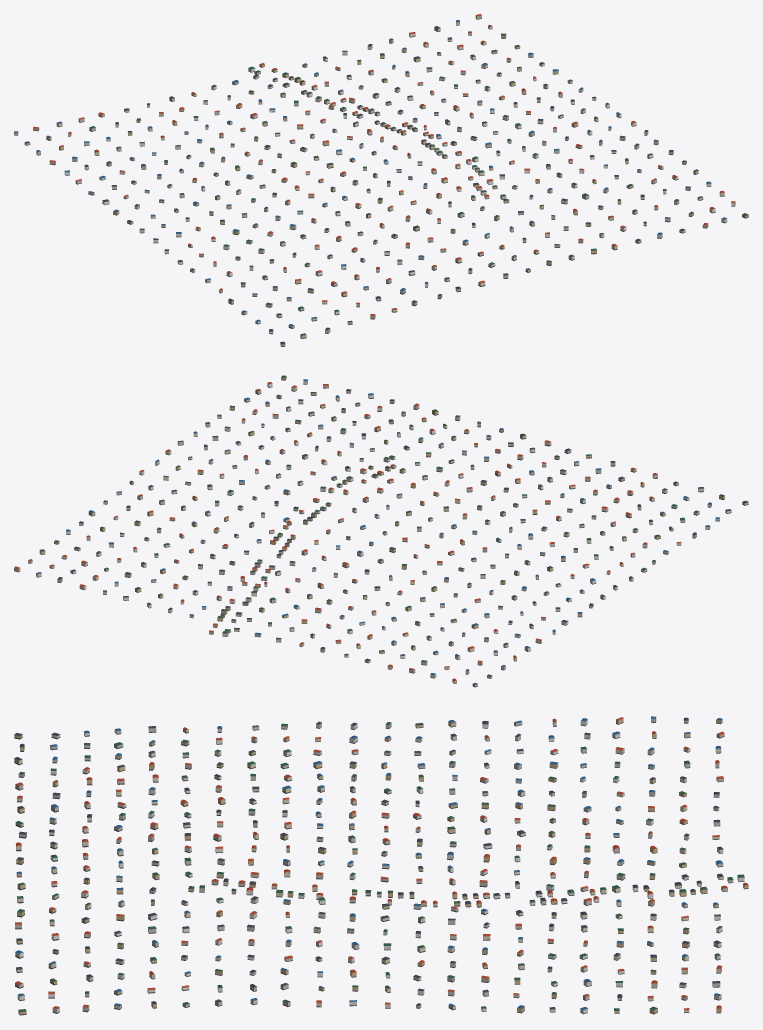
Rendered from buildings_T_E00_S01.glb.
3 renders of one model, top to bottom at view 1: azimuth 30°, elevation 25°; view 2: azimuth 150°, elevation 25°; view 3: azimuth 270°, elevation 25°, orthographic. The views are drawn at different scales.
Visible parts, largest first — view 1: T_E00_S01_slope_seating_foundations, T_E00_S01_walls_wall_french_ochre_villa, T_E00_S01_walls_wall_dalat_cream_stucco, T_E00_S01_walls_wall_modern_warm_white, T_E00_S01_walls_wall_pastel_sand_gray, T_E00_S01_roofs_roof_terracotta_gable, T_E00_S01_roofs_roof_slate_French_villa_hip, T_E00_S01_roofs_roof_pine_green_hip, T_E00_S01_roofs_roof_highland_blue_gable; view 2: T_E00_S01_slope_seating_foundations, T_E00_S01_walls_wall_french_ochre_villa, T_E00_S01_walls_wall_dalat_cream_stucco, T_E00_S01_walls_wall_modern_warm_white, T_E00_S01_walls_wall_pastel_sand_gray, T_E00_S01_roofs_roof_terracotta_gable, T_E00_S01_roofs_roof_slate_French_villa_hip, T_E00_S01_roofs_roof_pine_green_hip, T_E00_S01_roofs_roof_highland_blue_gable; view 3: T_E00_S01_slope_seating_foundations, T_E00_S01_walls_wall_french_ochre_villa, T_E00_S01_walls_wall_dalat_cream_stucco, T_E00_S01_walls_wall_modern_warm_white, T_E00_S01_walls_wall_pastel_sand_gray, T_E00_S01_roofs_roof_terracotta_gable, T_E00_S01_roofs_roof_slate_French_villa_hip, T_E00_S01_roofs_roof_pine_green_hip, T_E00_S01_roofs_roof_highland_blue_gable.
Part boxes in pixels (left/top/right/bottom): T_E00_S01_slope_seating_foundations: left=14, top=18, right=748, bottom=346; T_E00_S01_walls_wall_french_ochre_villa: left=14, top=15, right=748, bottom=346; T_E00_S01_walls_wall_dalat_cream_stucco: left=56, top=22, right=711, bottom=332; T_E00_S01_walls_wall_modern_warm_white: left=64, top=26, right=735, bottom=333; T_E00_S01_walls_wall_pastel_sand_gray: left=24, top=27, right=724, bottom=328; T_E00_S01_roofs_roof_terracotta_gable: left=33, top=14, right=735, bottom=315; T_E00_S01_roofs_roof_slate_French_villa_hip: left=25, top=26, right=698, bottom=344; T_E00_S01_roofs_roof_pine_green_hip: left=89, top=33, right=748, bottom=322; T_E00_S01_roofs_roof_highland_blue_gable: left=14, top=20, right=726, bottom=326; T_E00_S01_slope_seating_foundations: left=14, top=378, right=748, bottom=687; T_E00_S01_walls_wall_french_ochre_villa: left=14, top=376, right=748, bottom=686; T_E00_S01_walls_wall_dalat_cream_stucco: left=36, top=390, right=710, bottom=677; T_E00_S01_walls_wall_modern_warm_white: left=28, top=380, right=731, bottom=658; T_E00_S01_walls_wall_pastel_sand_gray: left=49, top=385, right=711, bottom=678; T_E00_S01_roofs_roof_terracotta_gable: left=14, top=382, right=681, bottom=681; T_E00_S01_roofs_roof_slate_French_villa_hip: left=57, top=389, right=748, bottom=676; T_E00_S01_roofs_roof_pine_green_hip: left=40, top=375, right=699, bottom=662; T_E00_S01_roofs_roof_highland_blue_gable: left=37, top=379, right=719, bottom=684; T_E00_S01_slope_seating_foundations: left=14, top=721, right=748, bottom=1015; T_E00_S01_walls_wall_french_ochre_villa: left=14, top=718, right=748, bottom=1014; T_E00_S01_walls_wall_dalat_cream_stucco: left=14, top=723, right=723, bottom=1009; T_E00_S01_walls_wall_modern_warm_white: left=15, top=720, right=744, bottom=1013; T_E00_S01_walls_wall_pastel_sand_gray: left=15, top=717, right=733, bottom=1011; T_E00_S01_roofs_roof_terracotta_gable: left=15, top=717, right=748, bottom=1010; T_E00_S01_roofs_roof_slate_French_villa_hip: left=14, top=717, right=723, bottom=1009; T_E00_S01_roofs_roof_pine_green_hip: left=16, top=722, right=744, bottom=1012; T_E00_S01_roofs_roof_highland_blue_gable: left=15, top=716, right=722, bottom=1010.
Bounding box in the file's own units: 1793 × 107 × 1859.
